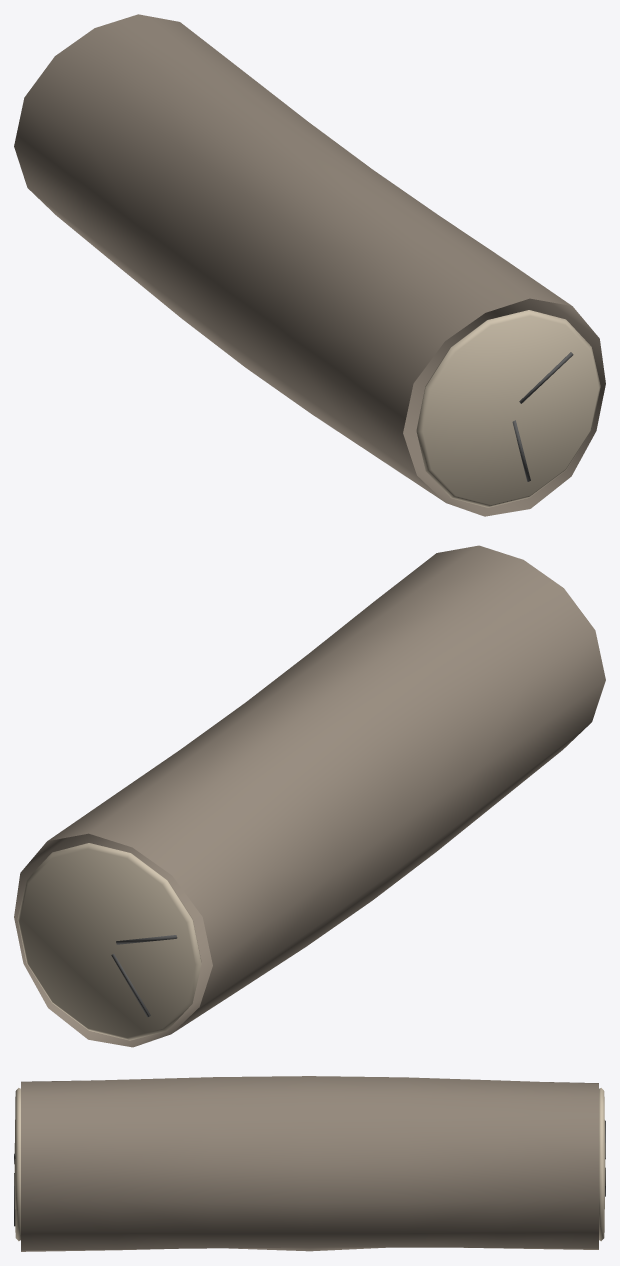
Rendered from wp_log_0.glb.
3 views of the same model, one above another, from view 1: azimuth 30°, elevation 25°; view 2: azimuth 150°, elevation 25°; view 3: azimuth 270°, elevation 25° (orthographic). The views are drawn at different scales.
Visible parts, largest first — view 1: wp_log_0; view 2: wp_log_0; view 3: wp_log_0.
Boxes of the visible parts, box(x1,y1,x2,y2) form: wp_log_0: box(14, 14, 605, 516); wp_log_0: box(14, 545, 605, 1047); wp_log_0: box(14, 1076, 605, 1251).
Size of the model in its own units: 0.1702 by 0.1675 by 0.563.
